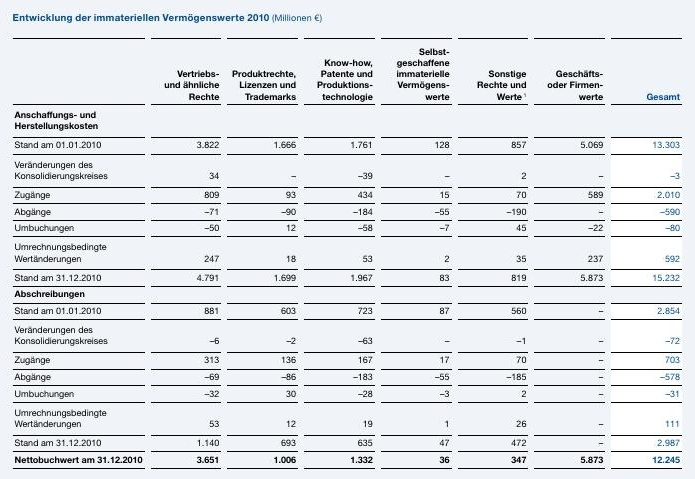table: (0, 0, 695, 479)
